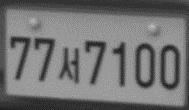0: (134, 42, 156, 88), (159, 44, 180, 90)
1: (111, 41, 127, 87)
7: (82, 39, 107, 86), (8, 35, 32, 81), (33, 37, 56, 83)
서: (57, 45, 81, 85)
